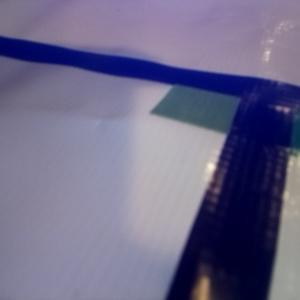bottom_left: (150, 79, 268, 134)
